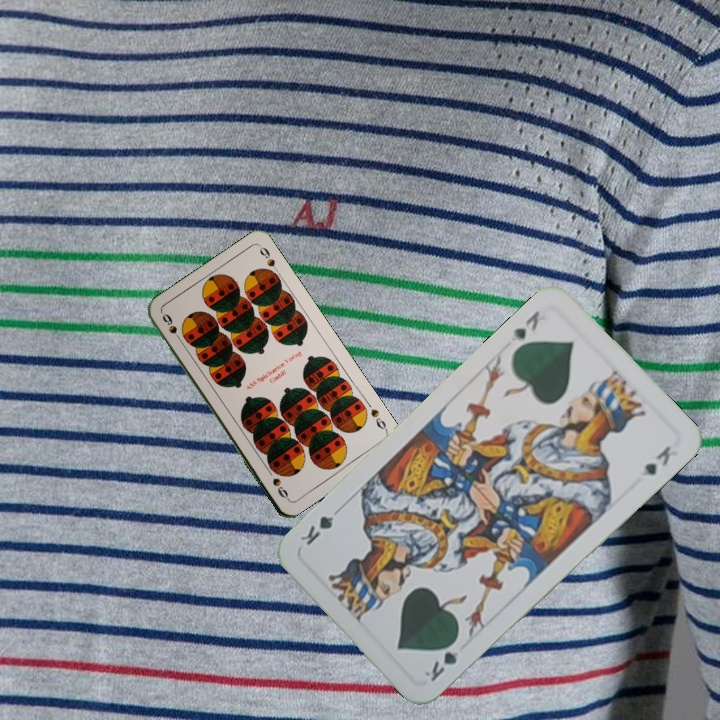GK: (420, 633, 464, 685), (506, 306, 543, 346)
S9: (158, 309, 186, 346), (367, 404, 391, 435)
